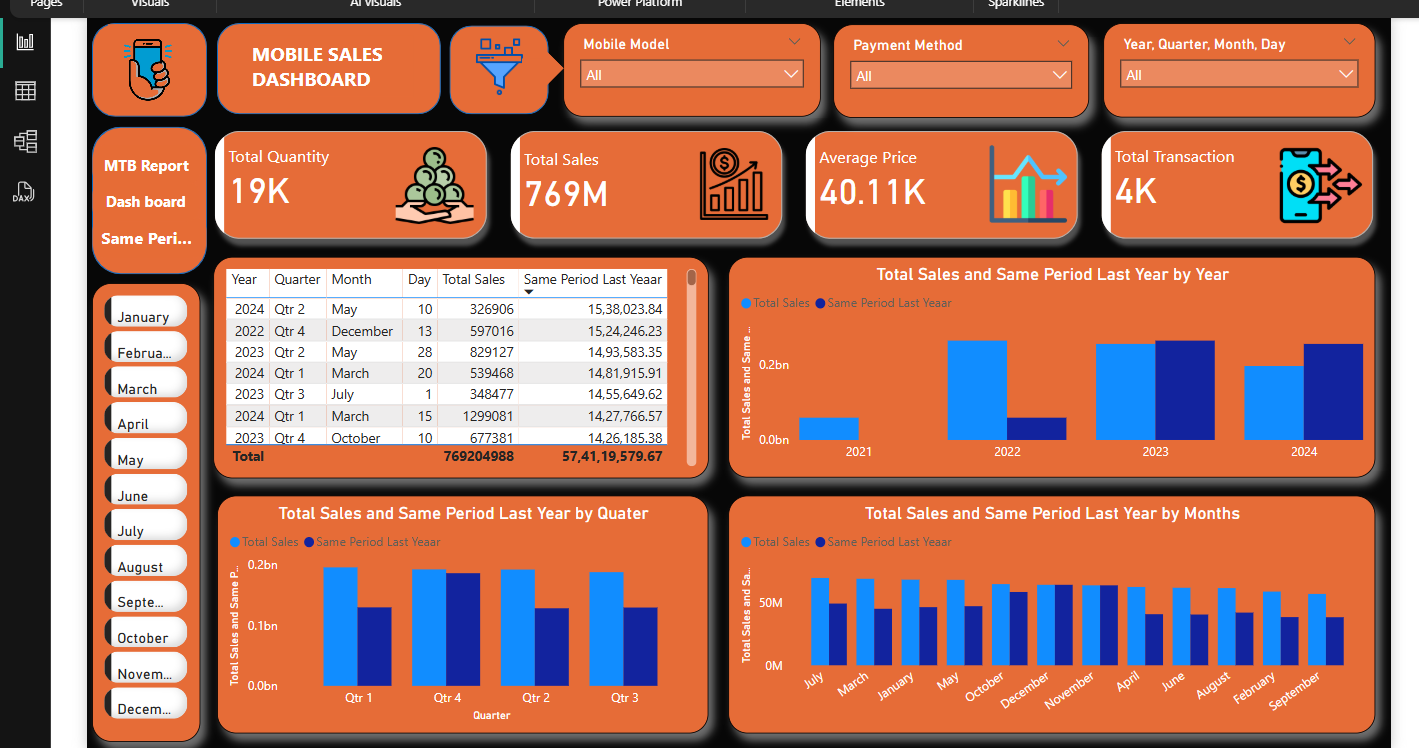

This screenshot's page, from the dashboard's own definition file:
{"tool":"powerbi","page":{"name":"Same Period Last Year ","canvas":[1280,720],"ordinal":3},"visuals":[{"type":"shape","box":[4.9,4.9,112.9,92],"z":0},{"type":"shape","box":[4.9,106.7,112.9,144.8],"z":1000},{"type":"slicer","fields":{"Values":["Mobile Sales Data.Mobile Model"]},"box":[467.5,4.9,252.8,92],"z":2000},{"type":"cardVisual","fields":{"Data":["Mobile Sales Data.Total Quantity","Mobile Sales Data.Total Sales","Mobile Sales Data.Average Price","Mobile Sales Data.Total Transaction"]},"box":[109.2,94.5,1170.6,139.9],"z":3000},{"type":"slicer","fields":{"Values":["Custom Calander.Date.Variation.Date Hierarchy.Year","Custom Calander.Date.Variation.Date Hierarchy.Quarter","Custom Calander.Date.Variation.Date Hierarchy.Month","Custom Calander.Date.Variation.Date Hierarchy.Day"]},"box":[997.5,5,267.5,92.5],"z":4000},{"type":"slicer","fields":{"Values":["Mobile Sales Data.Payment Method"]},"box":[732.5,6.1,251.5,92],"z":5000},{"type":"shape","box":[127.6,4.9,219.6,89.6],"z":6000},{"type":"textbox","box":[157.1,17.2,163.2,60.1],"z":7000},{"type":"tableEx","fields":{"Values":["Custom Calander.Date.Variation.Date Hierarchy.Year","Custom Calander.Date.Variation.Date Hierarchy.Quarter","Custom Calander.Date.Variation.Date Hierarchy.Month","Custom Calander.Date.Variation.Date Hierarchy.Day","Mobile Sales Data.Total Sales","Custom Calander.Same Period Last Yeaar"]},"box":[123.8,233.8,486.2,217.5],"z":8000},{"type":"clusteredColumnChart","title":"Total Sales and Same Period Last Year by Year","fields":{"Category":["Custom Calander.Date.Variation.Date Hierarchy.Year","Custom Calander.Date.Variation.Date Hierarchy.Quarter","Custom Calander.Date.Variation.Date Hierarchy.Month","Custom Calander.Date.Variation.Date Hierarchy.Day"],"Y":["Mobile Sales Data.Total Sales","Custom Calander.Same Period Last Yeaar"]},"box":[629.5,234.4,635.6,217.2],"z":9000},{"type":"clusteredColumnChart","title":"Total Sales and Same Period Last Year by  Months","fields":{"Category":["Custom Calander.Date.Variation.Date Hierarchy.Year","Custom Calander.Date.Variation.Date Hierarchy.Quarter","Custom Calander.Date.Variation.Date Hierarchy.Month","Custom Calander.Date.Variation.Date Hierarchy.Day"],"Y":["Mobile Sales Data.Total Sales","Custom Calander.Same Period Last Yeaar"]},"box":[630,468.8,635,233.8],"z":10000},{"type":"clusteredColumnChart","title":"Total Sales and Same Period Last Year by Quater","fields":{"Category":["Custom Calander.Date.Variation.Date Hierarchy.Year","Custom Calander.Date.Variation.Date Hierarchy.Quarter","Custom Calander.Date.Variation.Date Hierarchy.Month","Custom Calander.Date.Variation.Date Hierarchy.Day"],"Y":["Mobile Sales Data.Total Sales","Custom Calander.Same Period Last Yeaar"]},"box":[127.5,468.8,482.5,233.8],"z":11000},{"type":"advancedSlicerVisual","fields":{"Values":["Custom Calander.Date.Variation.Date Hierarchy.Month"]},"box":[4.9,260.1,106.7,450.3],"z":12000},{"type":"image","box":[21.2,6.2,77.5,88.8],"z":13000},{"type":"shape","box":[356.2,7.5,97.5,87.5],"z":14000},{"type":"image","box":[365,15,81.2,66.2],"z":15000},{"type":"shape","box":[427.5,30,41.2,40],"z":16000},{"type":"actionButton","box":[4.9,195.1,112.9,40.5],"z":16001},{"type":"actionButton","box":[4.9,159.5,105.5,40.5],"z":16002},{"type":"actionButton","box":[4.9,123.9,106.7,40.5],"z":16003}]}

Visuals, with their boxes on the page's 1280x720 design canvas (x1, y1, x2, y2). These are canvas units, not pixel positions in the 1419x748 screenshot, which may show the page scaled, cropped or inside an application window:
shape: [x1=5, y1=5, x2=118, y2=97]
shape: [x1=5, y1=107, x2=118, y2=252]
slicer - Mobile Sales Data.Mobile Model: [x1=468, y1=5, x2=720, y2=97]
cardVisual - Mobile Sales Data.Total Quantity x Mobile Sales Data.Total Sales: [x1=109, y1=94, x2=1280, y2=234]
slicer - Custom Calander.Date.Variation.Date Hierarchy.Year x Custom Calander.Date.Variation.Date Hierarchy.Quarter: [x1=998, y1=5, x2=1265, y2=98]
slicer - Mobile Sales Data.Payment Method: [x1=732, y1=6, x2=984, y2=98]
shape: [x1=128, y1=5, x2=347, y2=94]
textbox: [x1=157, y1=17, x2=320, y2=77]
tableEx - Custom Calander.Date.Variation.Date Hierarchy.Year x Custom Calander.Date.Variation.Date Hierarchy.Quarter: [x1=124, y1=234, x2=610, y2=451]
"Total Sales and Same Period Last Year by Year" clusteredColumnChart: [x1=630, y1=234, x2=1265, y2=452]
"Total Sales and Same Period Last Year by  Months" clusteredColumnChart: [x1=630, y1=469, x2=1265, y2=703]
"Total Sales and Same Period Last Year by Quater" clusteredColumnChart: [x1=128, y1=469, x2=610, y2=703]
advancedSlicerVisual - Custom Calander.Date.Variation.Date Hierarchy.Month: [x1=5, y1=260, x2=112, y2=710]
image: [x1=21, y1=6, x2=99, y2=95]
shape: [x1=356, y1=8, x2=454, y2=95]
image: [x1=365, y1=15, x2=446, y2=81]
shape: [x1=428, y1=30, x2=469, y2=70]
actionButton: [x1=5, y1=195, x2=118, y2=236]
actionButton: [x1=5, y1=160, x2=110, y2=200]
actionButton: [x1=5, y1=124, x2=112, y2=164]
